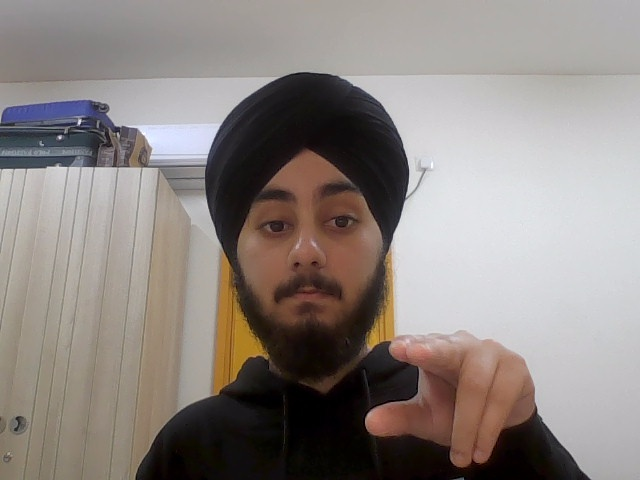No: (363, 317, 540, 467)
